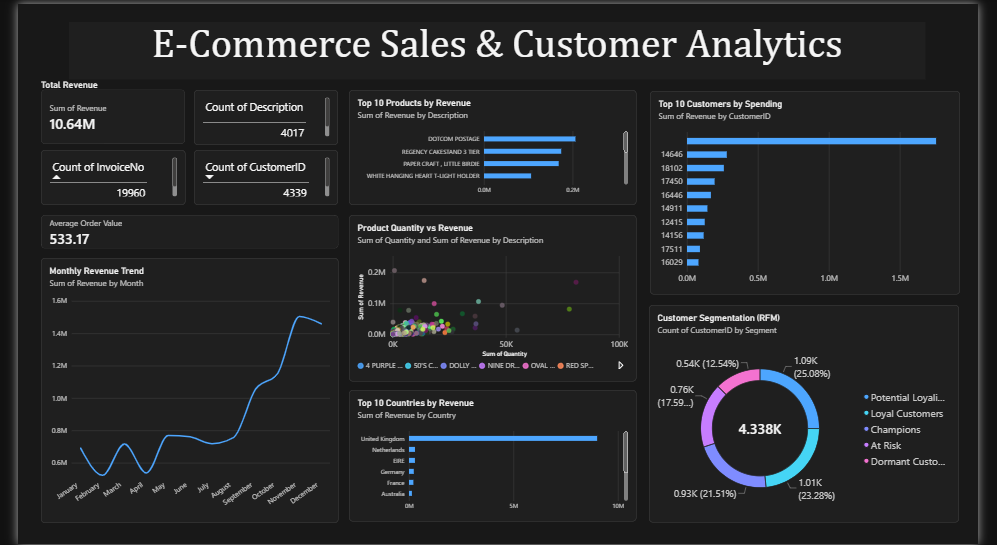

What the dashboard file says about the page in this screenshot:
{"tool":"powerbi","page":{"name":"Page 1","canvas":[1920,1080],"ordinal":0},"visuals":[{"type":"cardVisual","title":"Total Revenue","fields":{"Data":["Sum(powerbi_sales_data_clean.Revenue)"]},"box":[45,150,288.8,130],"z":0},{"type":"tableEx","fields":{"Values":["powerbi_sales_data_clean.InvoiceNo"]},"box":[45,292.5,288.8,110],"z":1000},{"type":"tableEx","fields":{"Values":["powerbi_sales_data_clean.CustomerID"]},"box":[352.5,292.5,287.5,110],"z":2000},{"type":"tableEx","fields":{"Values":["powerbi_sales_data_clean.Description"]},"box":[352.5,172.5,287.5,110],"z":3000},{"type":"cardVisual","fields":{"Data":["powerbi_sales_data_clean.Average Order Value"]},"box":[45,422.5,595,67.5],"z":4000},{"type":"lineChart","title":"Monthly Revenue Trend","fields":{"Category":["powerbi_sales_data_clean.InvoiceDate.Variation.Date Hierarchy.Month"],"Y":["Sum(powerbi_sales_data_clean.Revenue)"]},"box":[45,507.5,595,530],"z":5000},{"type":"clusteredBarChart","title":"Top 10 Products by Revenue","fields":{"Category":["powerbi_sales_data_clean.Description"],"Y":["Sum(powerbi_sales_data_clean.Revenue)"]},"box":[662.5,172.5,575,230],"z":6000},{"type":"clusteredBarChart","title":"Top 10 Countries by Revenue","fields":{"Category":["powerbi_sales_data_clean.Country"],"Y":["Sum(powerbi_sales_data_clean.Revenue)"]},"box":[662.5,772.5,575,262.5],"z":7000},{"type":"clusteredBarChart","title":"Top 10 Customers by Spending","fields":{"Category":["powerbi_sales_data_clean.CustomerID"],"Y":["Sum(powerbi_sales_data_clean.Revenue)"]},"box":[1263.3,173.3,620,406.7],"z":8000},{"type":"scatterChart","title":"Product Quantity vs Revenue","fields":{"Series":["powerbi_sales_data_clean.Description"],"X":["Sum(powerbi_sales_data_clean.Quantity)"],"Y":["Sum(powerbi_sales_data_clean.Revenue)"]},"box":[662.5,422.5,575,332.5],"z":9000},{"type":"donutChart","title":"Customer Segmentation (RFM)","fields":{"Category":["customer_rfm_powerbi.Segment"],"Y":["CountNonNull(customer_rfm_powerbi.CustomerID)"]},"box":[1262.5,602.5,620,435],"z":10000},{"type":"textbox","box":[102.5,35,1712.5,115],"z":11000}]}

Visuals, with their boxes in screenshot pixels (x1, y1, x2, y2), scaled from the page's 1920x1080 canvas onto the 997x545 screenshot:
"Total Revenue" cardVisual: bbox(23, 76, 173, 141)
tableEx - powerbi_sales_data_clean.InvoiceNo: bbox(23, 148, 173, 203)
tableEx - powerbi_sales_data_clean.CustomerID: bbox(183, 148, 332, 203)
tableEx - powerbi_sales_data_clean.Description: bbox(183, 87, 332, 143)
cardVisual - powerbi_sales_data_clean.Average Order Value: bbox(23, 213, 332, 247)
"Monthly Revenue Trend" lineChart: bbox(23, 256, 332, 524)
"Top 10 Products by Revenue" clusteredBarChart: bbox(344, 87, 643, 203)
"Top 10 Countries by Revenue" clusteredBarChart: bbox(344, 390, 643, 522)
"Top 10 Customers by Spending" clusteredBarChart: bbox(656, 87, 978, 293)
"Product Quantity vs Revenue" scatterChart: bbox(344, 213, 643, 381)
"Customer Segmentation (RFM)" donutChart: bbox(656, 304, 978, 524)
textbox: bbox(53, 18, 942, 76)
